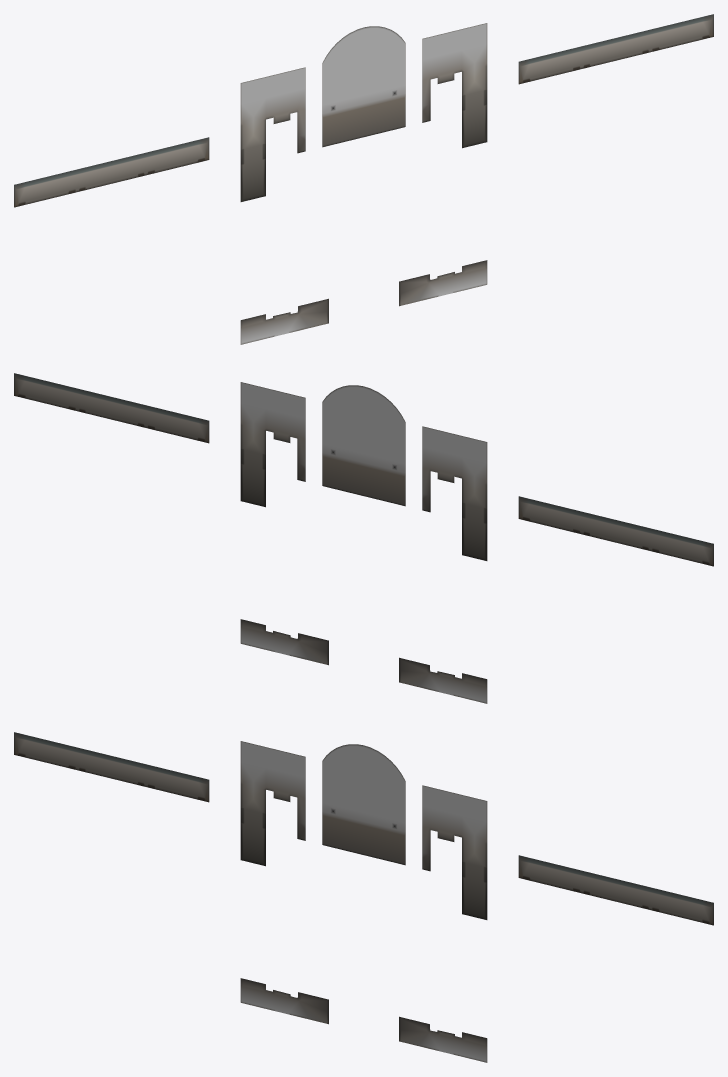
File: SM_000181_w40h001_tile01_3.fbx
3 views of the same model, one above another, from view 1: azimuth 30°, elevation 25°; view 2: azimuth 150°, elevation 25°; view 3: azimuth 330°, elevation 25° (orthographic).
Parts seen in each view (by area): view 1: SM_000181.001; view 2: SM_000181.001; view 3: SM_000181.001.
Part boxes in pixels (left/top/right/bottom): SM_000181.001: left=14, top=14, right=713, bottom=344; SM_000181.001: left=14, top=373, right=713, bottom=703; SM_000181.001: left=14, top=732, right=713, bottom=1062.
Bounding box in the file's own units: 124 × 48.48 × 5.96e-07.
